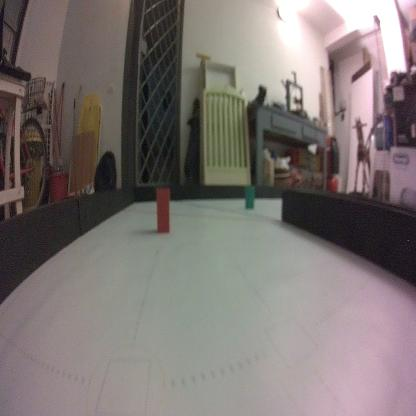green: (244, 184, 255, 210)
red: (154, 186, 172, 237)
